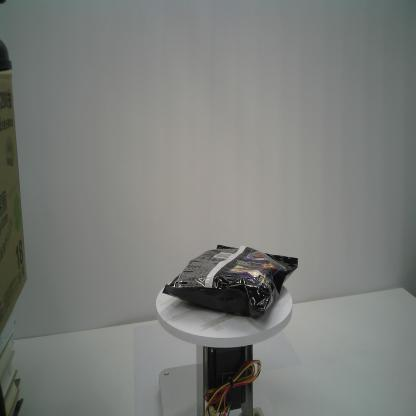Instant Noodles: (160, 242, 303, 324)
